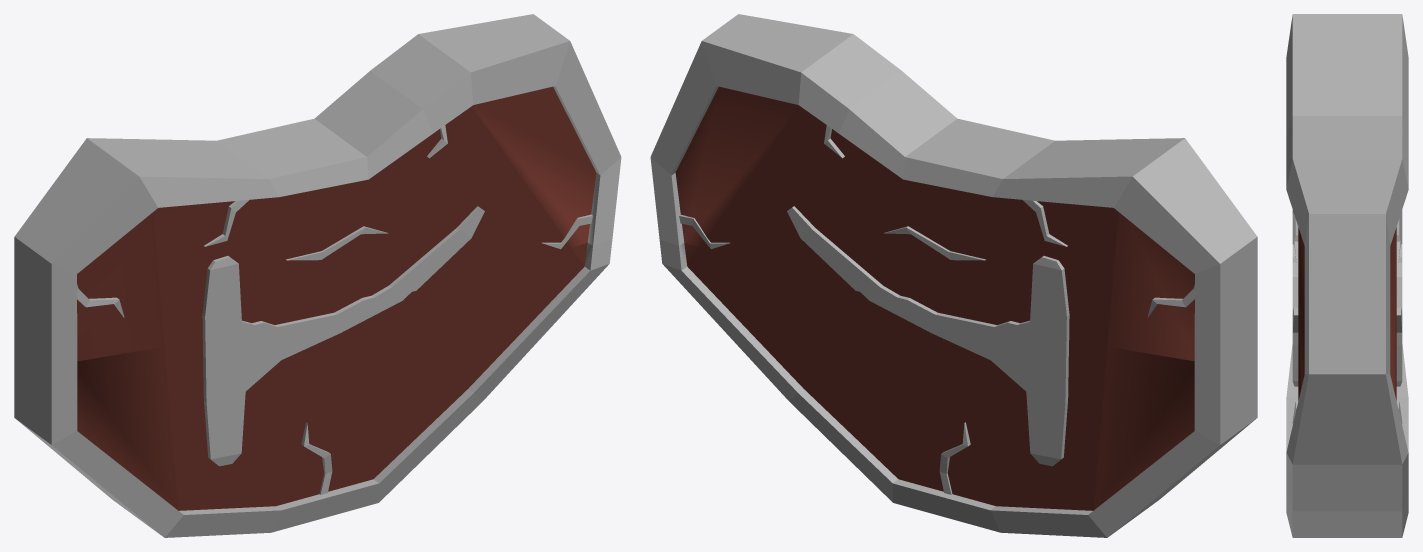
Rendered from steak_sliced.fbx.
The picture shows the model from 3 angles, left to right: view 1: azimuth 30°, elevation 25°; view 2: azimuth 150°, elevation 25°; view 3: azimuth 270°, elevation 25°; orthographic projection. The views are drawn at different scales.
Parts seen in each view (by area): view 1: SteakLeft, SteakRight; view 2: SteakLeft, SteakRight; view 3: SteakLeft, SteakRight.
Boxes of the visible parts, <box> form: SteakLeft: <box>14,14,621,368</box>; SteakRight: <box>14,239,612,537</box>; SteakLeft: <box>650,14,1257,368</box>; SteakRight: <box>659,239,1257,537</box>; SteakLeft: <box>1286,14,1408,443</box>; SteakRight: <box>1286,257,1408,537</box>.
Bounding box in the file's own units: 33.97 × 132 × 191.
